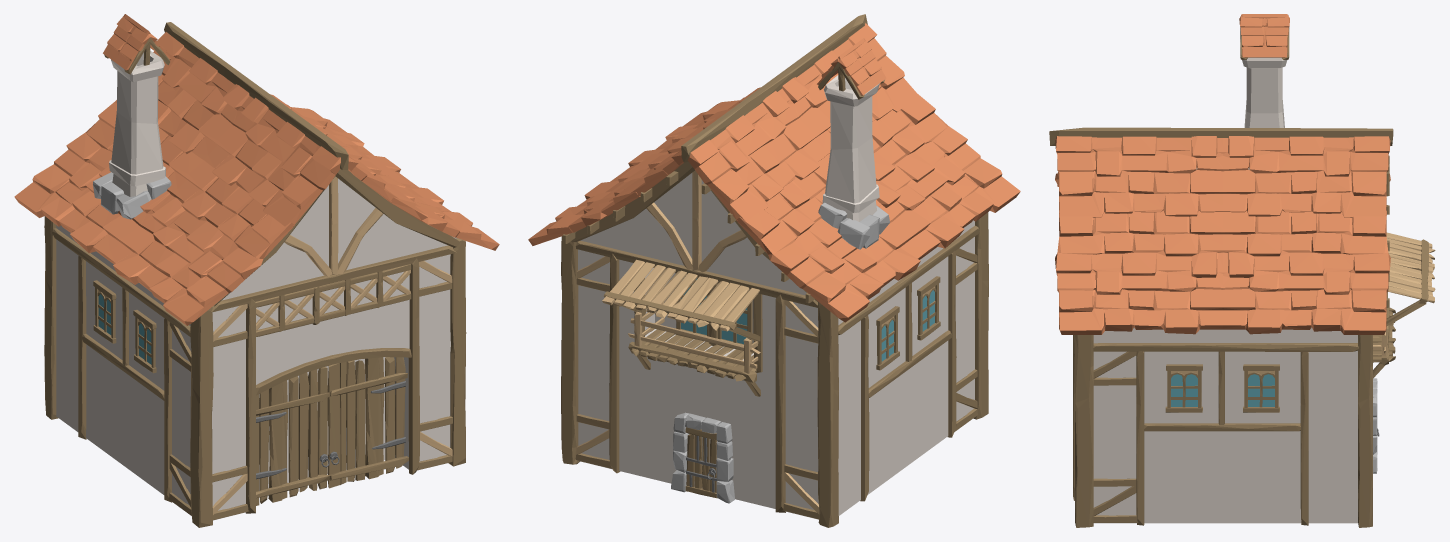
File: SM_stables.fbx
3 views of the same model, side by side, from view 1: azimuth 30°, elevation 25°; view 2: azimuth 150°, elevation 25°; view 3: azimuth 270°, elevation 25° (orthographic). The views are drawn at different scales.
Visible parts, largest first — view 1: Object32398; view 2: Object32398; view 3: Object32398.
Boxes of the visible parts, box(x1,y1,x2,y2) form: Object32398: box(14, 14, 499, 527); Object32398: box(528, 14, 1020, 527); Object32398: box(1049, 14, 1435, 527).
Bounding box in the file's own units: 1101 × 1416 × 1220.
